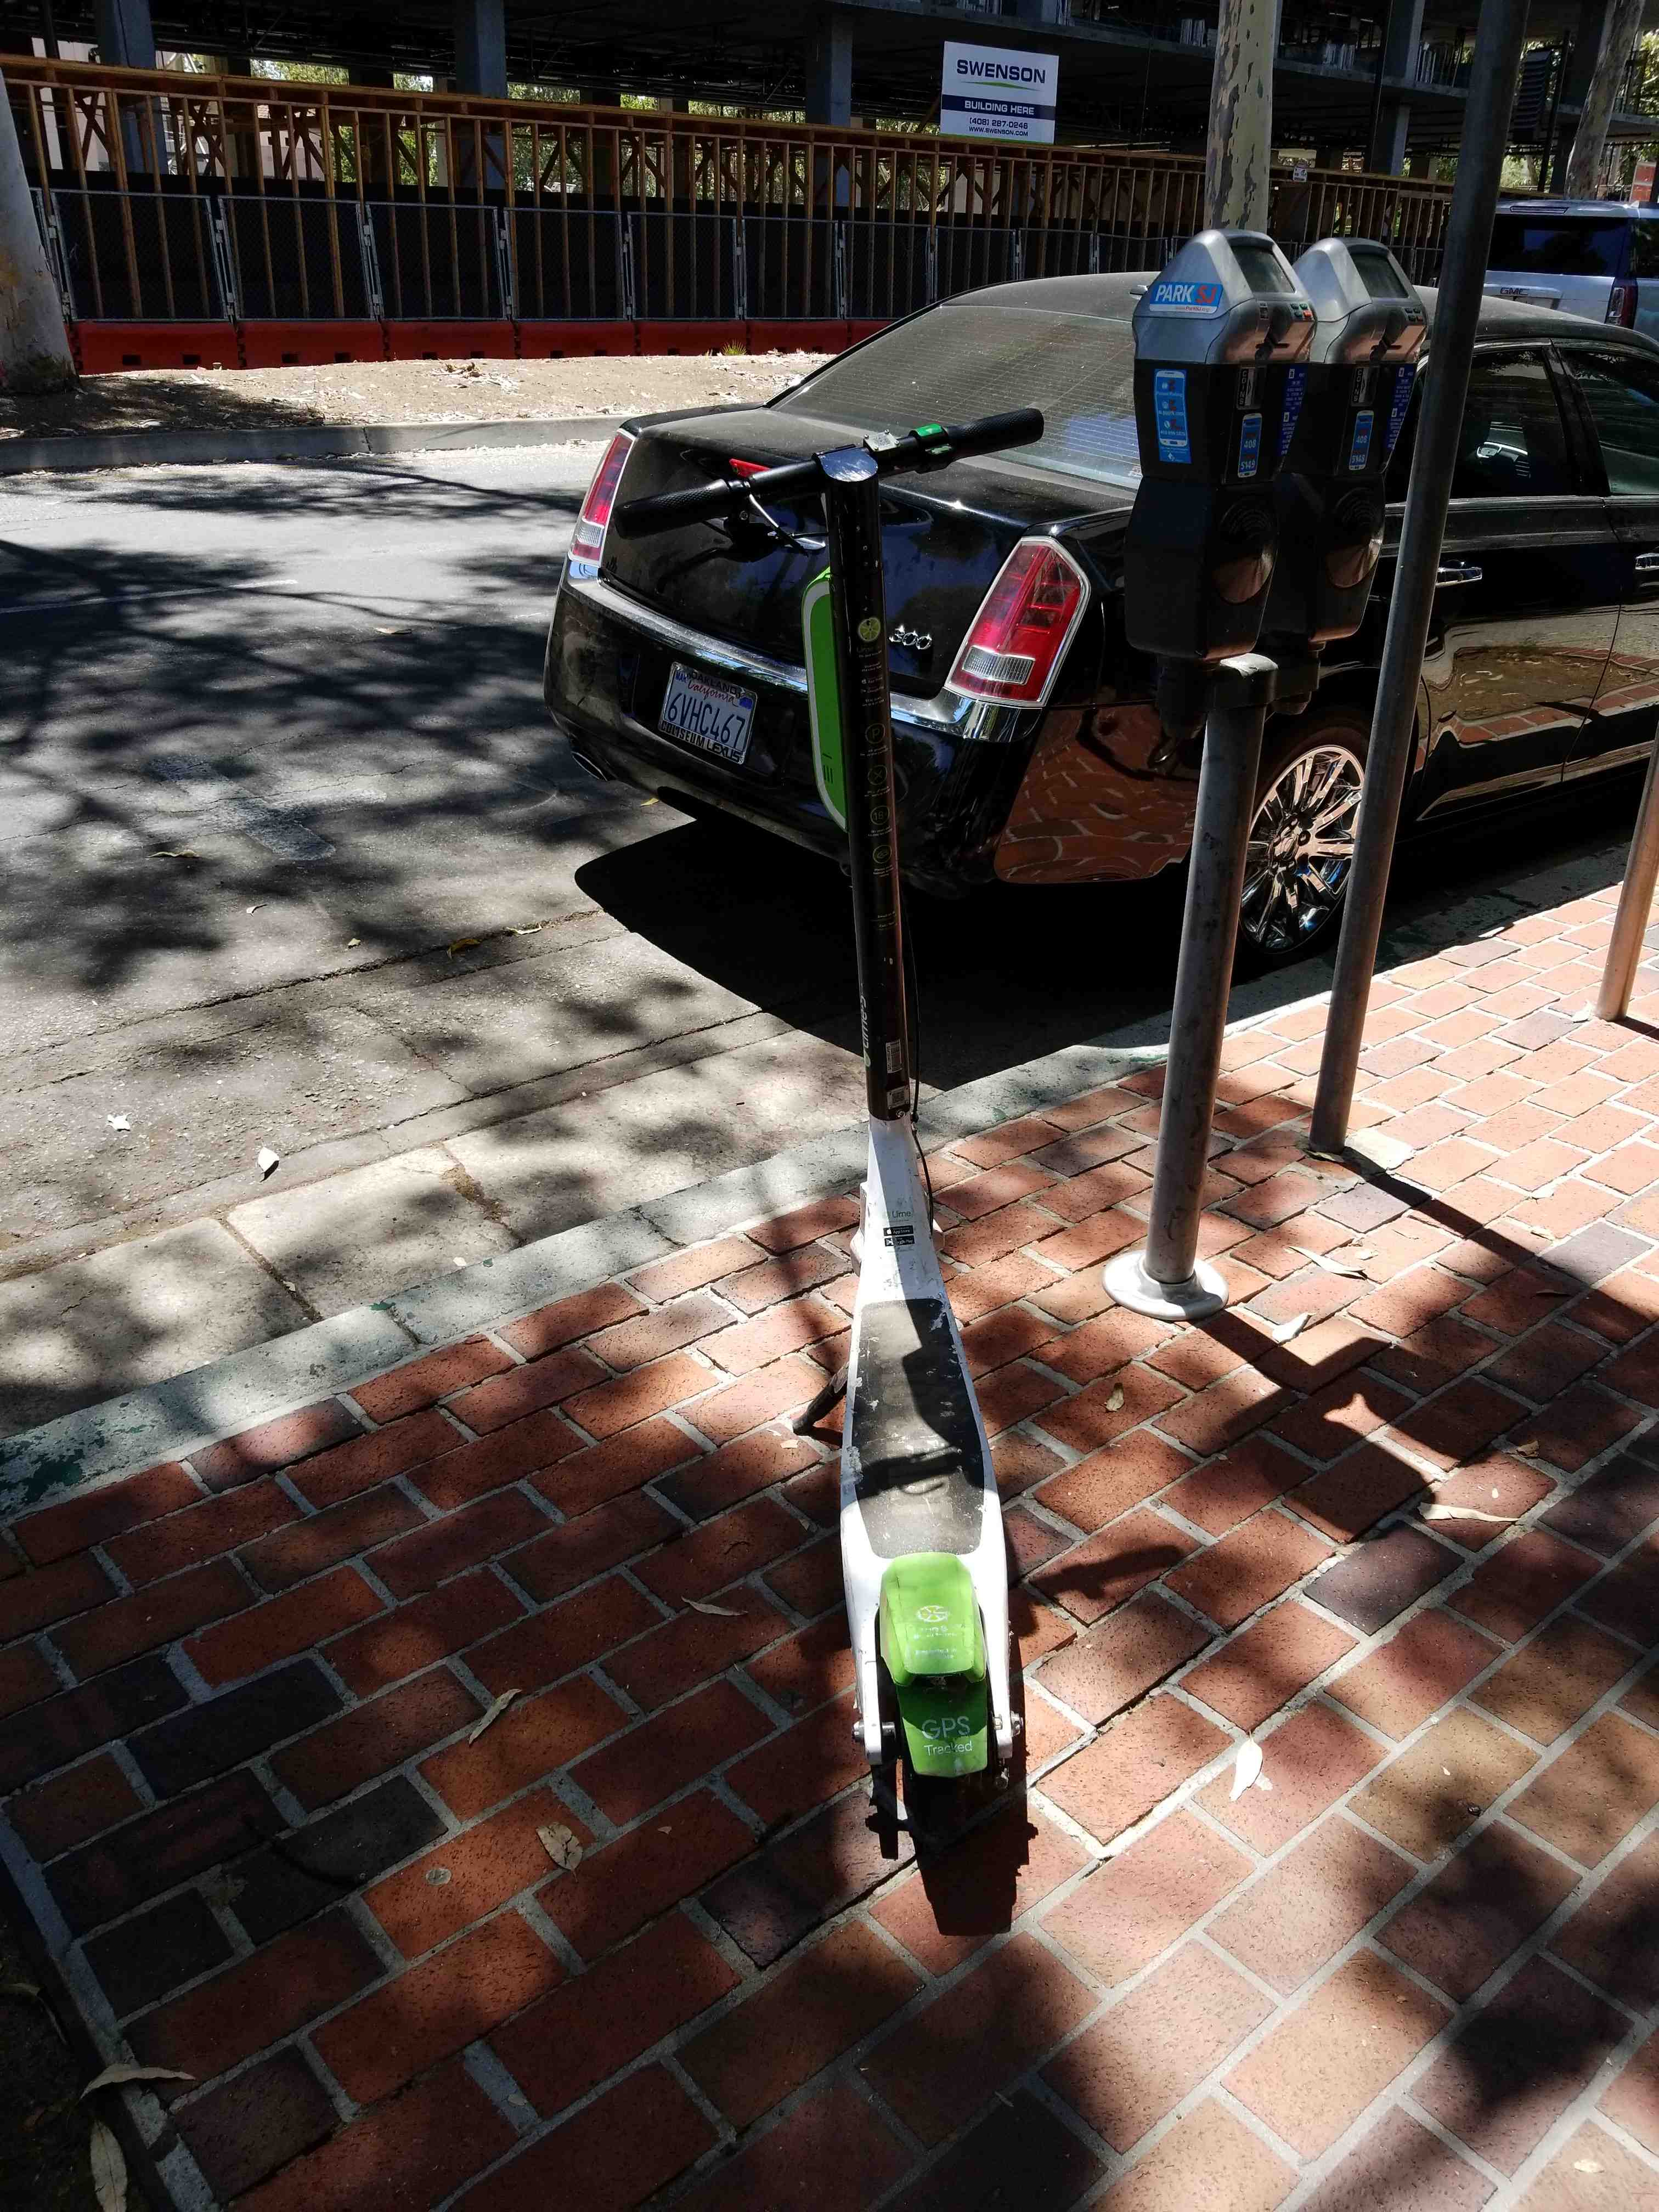scooter: (558, 392, 1119, 1956)
